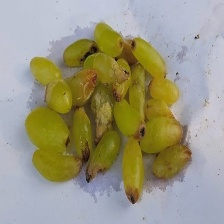grapes: (20, 5, 220, 206)
